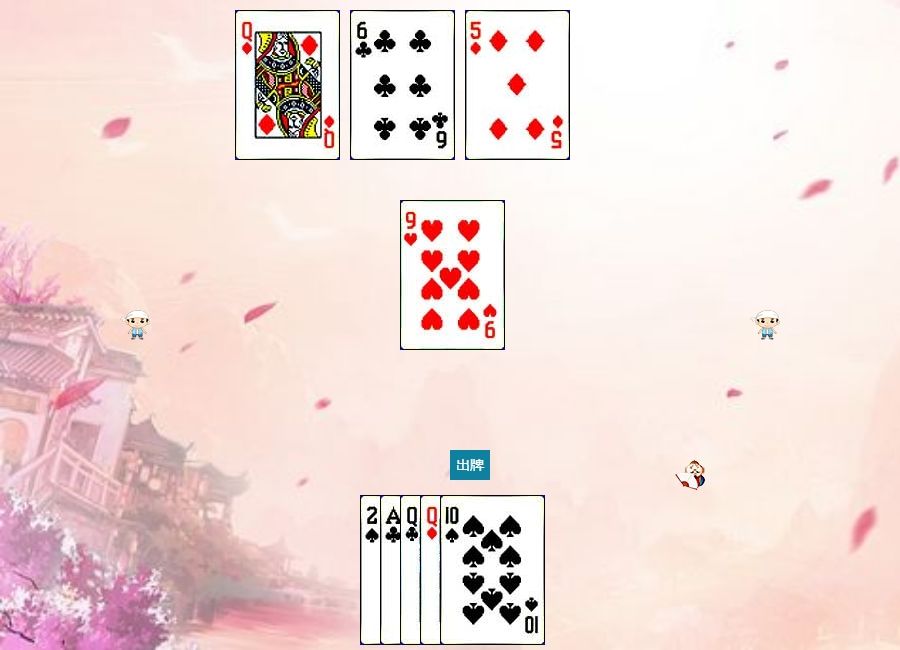10~4: (440, 495, 545, 645)
12~1: (235, 10, 340, 160), (420, 495, 525, 645)
12~2: (400, 495, 505, 645)
14~2: (380, 495, 485, 645)
15~4: (360, 495, 465, 645)
5~1: (465, 10, 570, 160)
6~2: (350, 10, 455, 160)
9~3: (400, 200, 505, 350)
